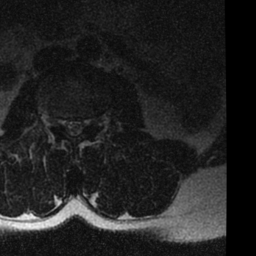CCS_severe_stenosis: (70, 113, 77, 143)
LFS_normal: (85, 110, 93, 133)
LLS_stenosis: (77, 113, 85, 134)
RFS_stenosis: (54, 111, 62, 134)
RLS_stenosis: (63, 113, 70, 135)
